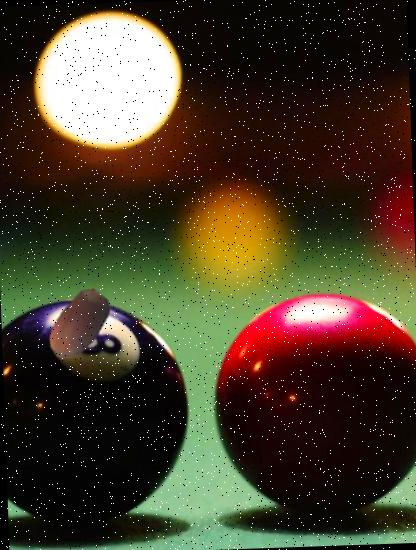Hazelnut: (40, 287, 120, 367)
